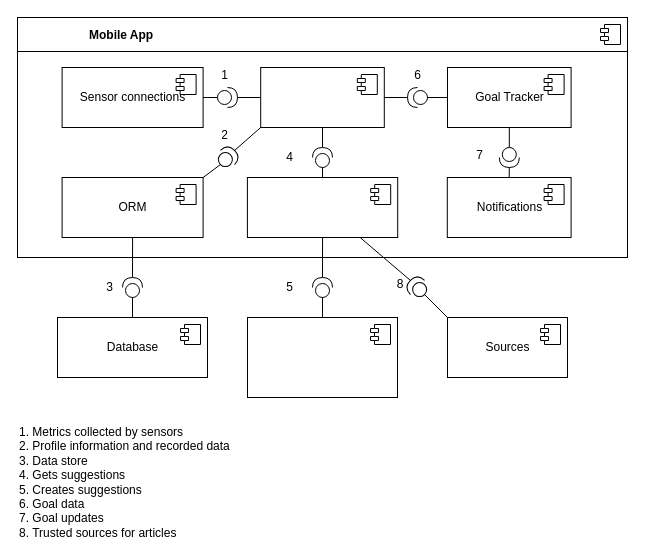
Image size: 645x557. Some labels were removed from this diagram. The centre of each missing label's shape, as x and y in pixels:
"Machine Learning Server" belongs at (322,357).
"Suggestion Connector" belongs at (322,207).
"User Interface" belongs at (322,97).
